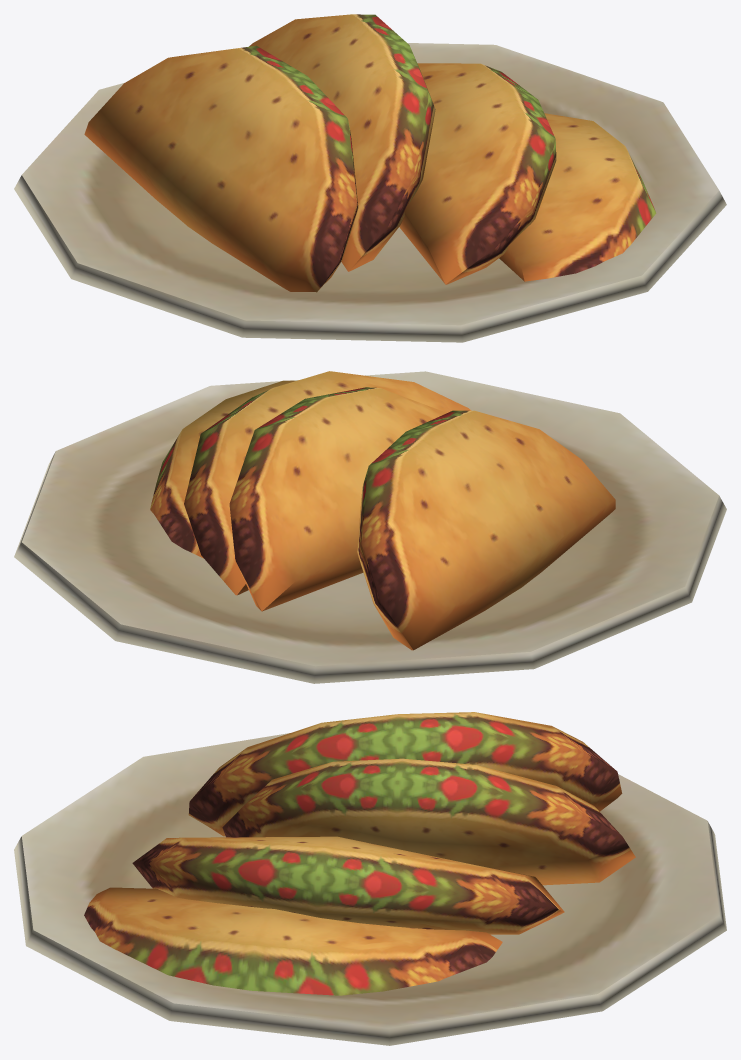
The model's file is Taco_Dish.fbx.
The picture shows the model from 3 angles, top to bottom: view 1: azimuth 30°, elevation 25°; view 2: azimuth 150°, elevation 25°; view 3: azimuth 270°, elevation 25°; orthographic projection. The views are drawn at different scales.
Parts seen in each view (by area): view 1: Taco_Dish; view 2: Taco_Dish; view 3: Taco_Dish.
Part boxes in pixels (box(x1,y1,x2,y2)): Taco_Dish: box(14, 14, 726, 342); Taco_Dish: box(14, 371, 726, 683); Taco_Dish: box(14, 712, 726, 1045).
Size of the model in its own units: 0.6233 by 0.1612 by 0.6029.
